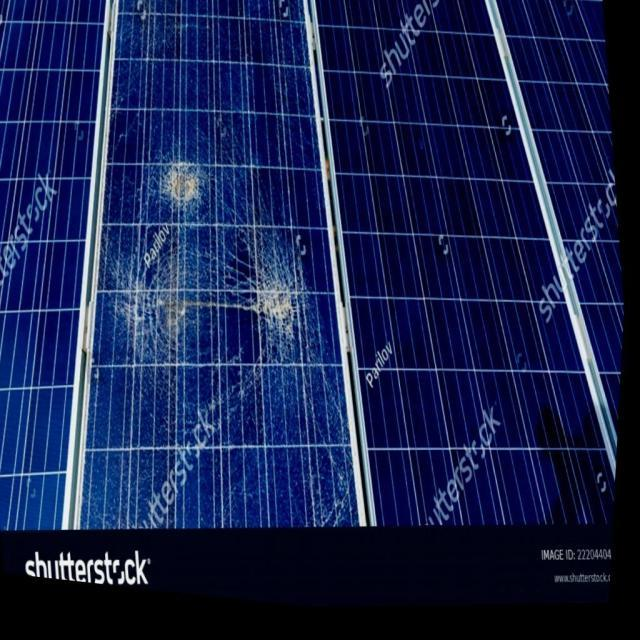cracked: (80, 1, 355, 526)
